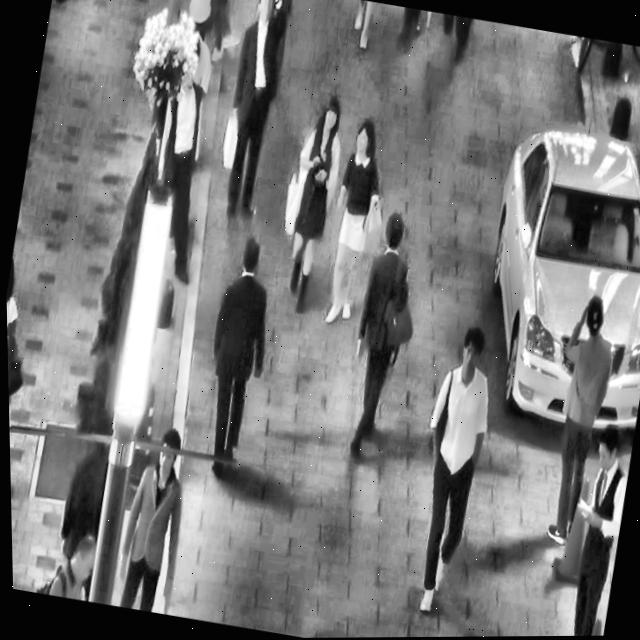light_vehicle: (454, 99, 640, 448)
